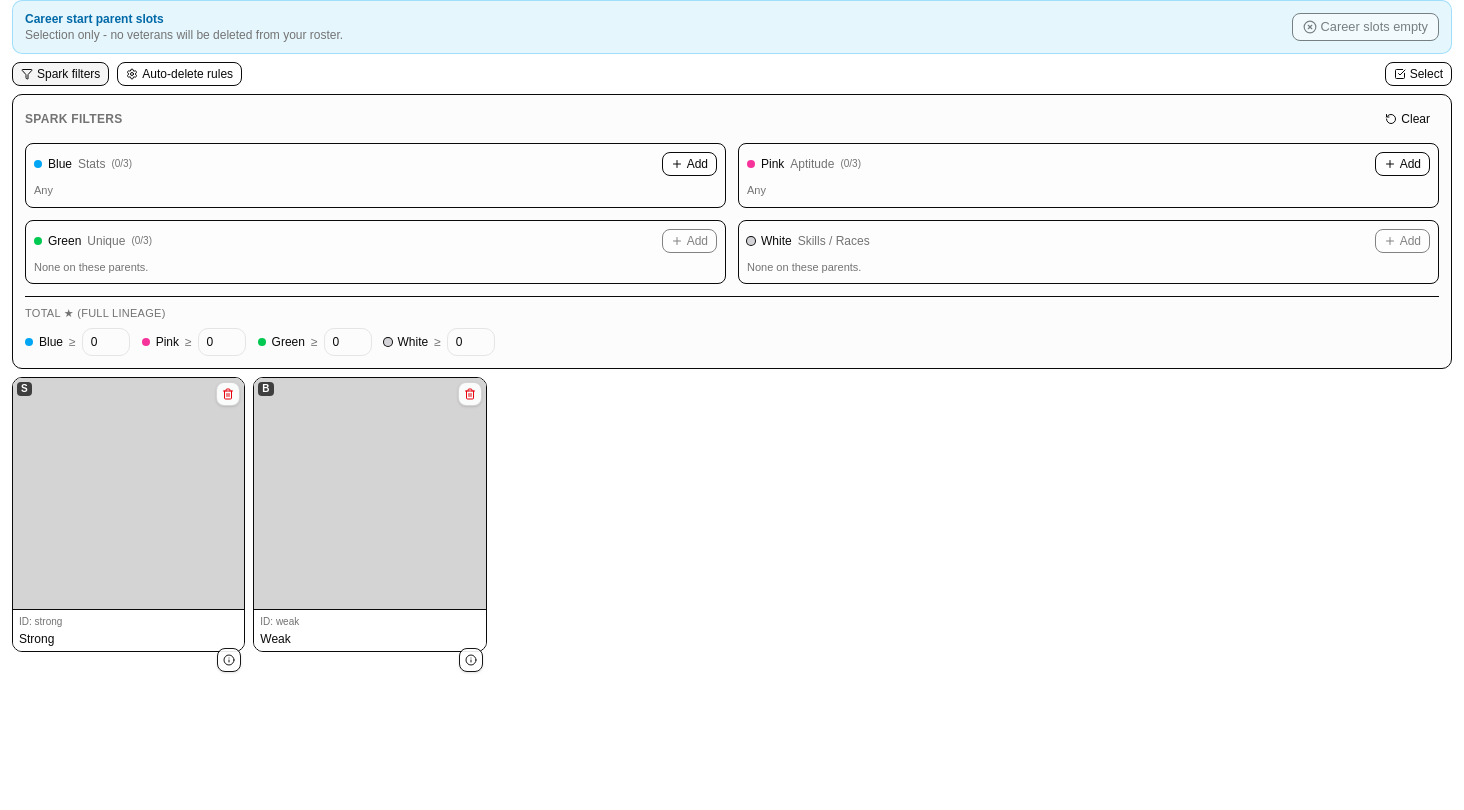
Test case: ParentGrid spark filter › hides parents whose blue total is below the chosen minimum
This screenshot has width=1464, height=810.
Replace the text in the number field with test id "spark-minBlue" with "5": point(106, 342) [82,328,130,356]
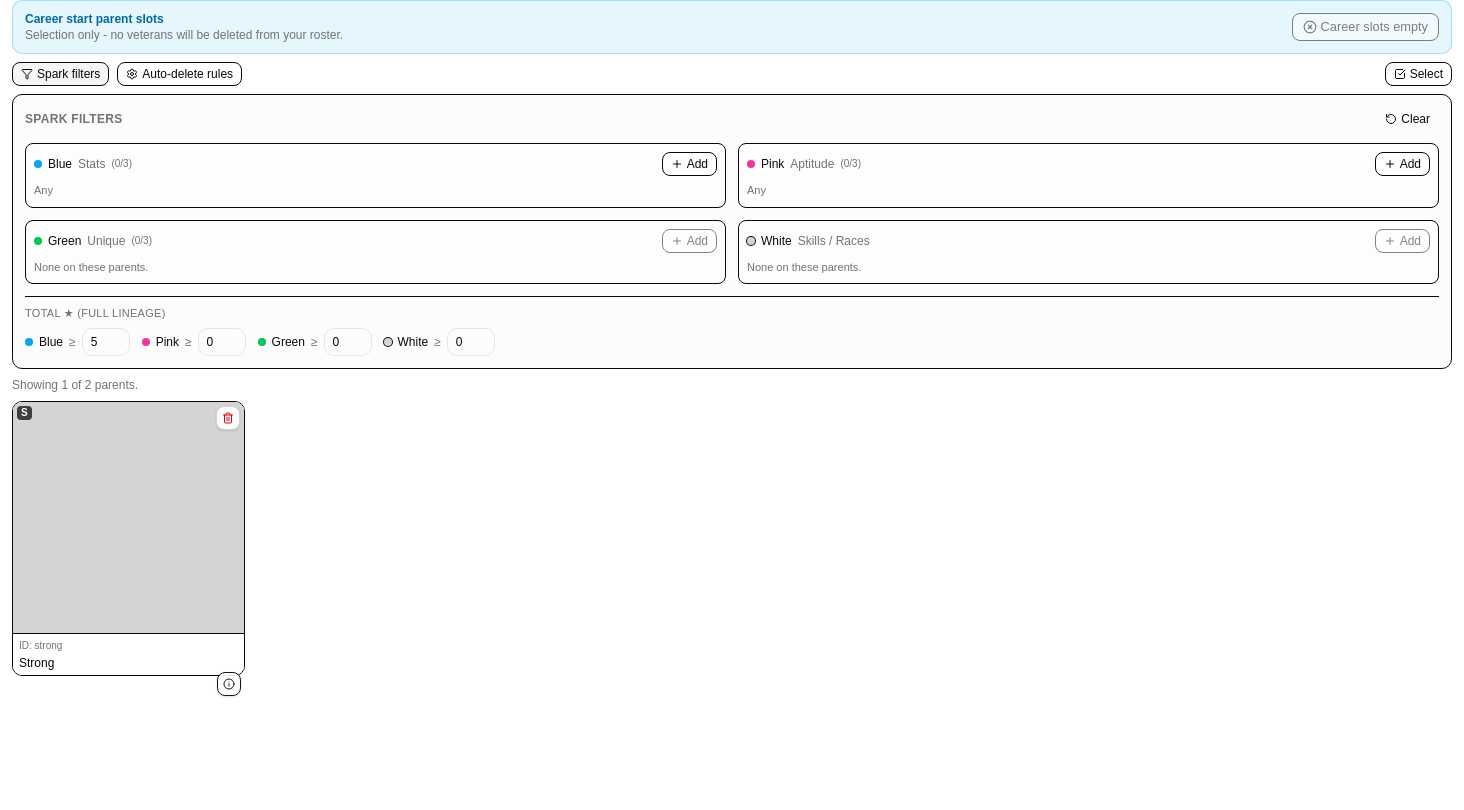
Expected: the button with test id "parent-card-weak" is gone
